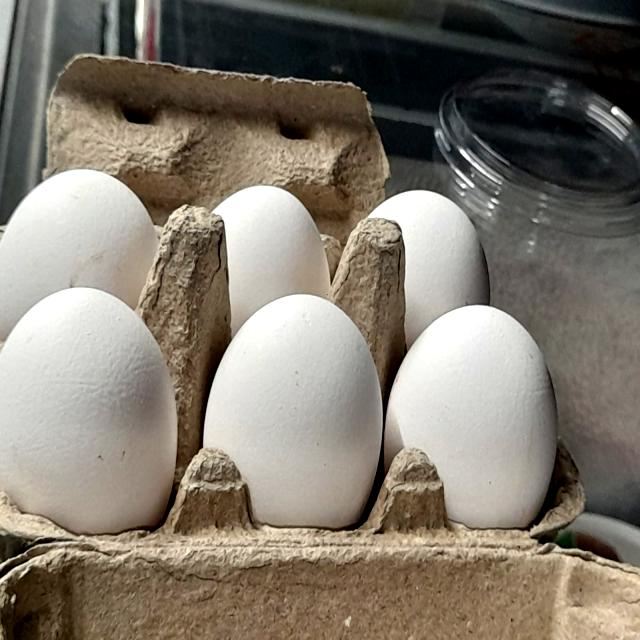egg: (197, 277, 383, 558), (0, 284, 172, 554), (383, 285, 563, 539)
